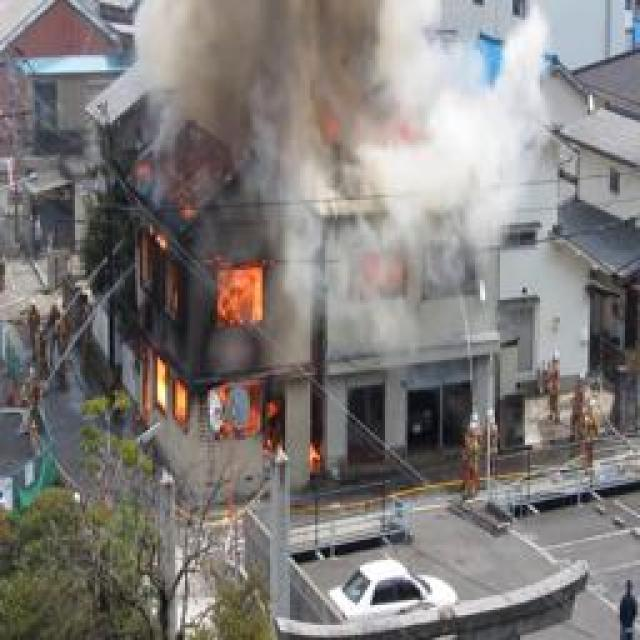Fire: (104, 220, 336, 491)
